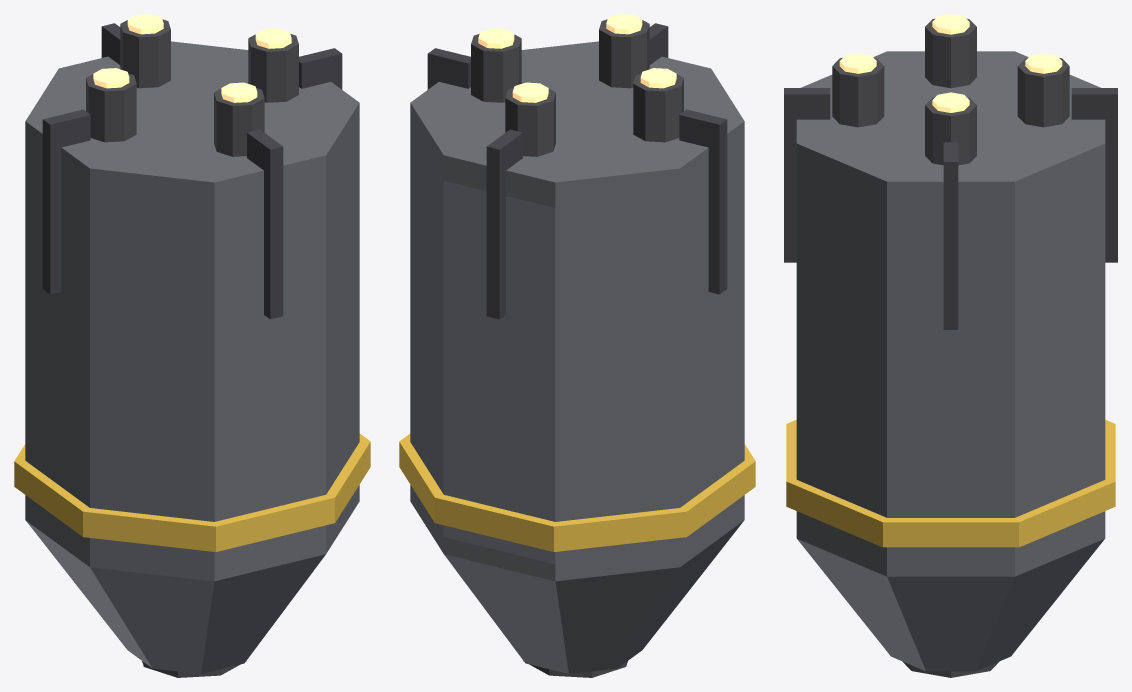
Rendered from ship_XS_DROPPOD.glb.
The picture shows the model from 3 angles, left to right: view 1: azimuth 30°, elevation 25°; view 2: azimuth 150°, elevation 25°; view 3: azimuth 270°, elevation 25°; orthographic projection.
Parts seen in each view (by area): view 1: XS_DROPPOD_Hull-col, XS_DROPPOD_Armor, XS_DROPPOD_Hazard, XS_DROPPOD_Engines, XS_DROPPOD_Trim, XS_DROPPOD_EngineGlow; view 2: XS_DROPPOD_Hull-col, XS_DROPPOD_Door-col, XS_DROPPOD_Armor, XS_DROPPOD_Hazard, XS_DROPPOD_Engines, XS_DROPPOD_Trim, XS_DROPPOD_EngineGlow; view 3: XS_DROPPOD_Hull-col, XS_DROPPOD_Armor, XS_DROPPOD_Engines, XS_DROPPOD_Hazard, XS_DROPPOD_Trim, XS_DROPPOD_EngineGlow.
Part boxes in pixels (<box>): XS_DROPPOD_Hull-col: <box>25,41,359,581</box>; XS_DROPPOD_Armor: <box>26,521,325,673</box>; XS_DROPPOD_Hazard: <box>14,433,370,551</box>; XS_DROPPOD_Engines: <box>86,19,298,677</box>; XS_DROPPOD_Trim: <box>42,23,342,319</box>; XS_DROPPOD_EngineGlow: <box>93,14,291,102</box>; XS_DROPPOD_Hull-col: <box>410,41,744,581</box>; XS_DROPPOD_Door-col: <box>443,181,555,564</box>; XS_DROPPOD_Armor: <box>444,521,743,673</box>; XS_DROPPOD_Hazard: <box>399,433,755,551</box>; XS_DROPPOD_Engines: <box>471,19,683,677</box>; XS_DROPPOD_Trim: <box>427,23,727,319</box>; XS_DROPPOD_EngineGlow: <box>478,14,676,102</box>; XS_DROPPOD_Hull-col: <box>796,51,1105,576</box>; XS_DROPPOD_Armor: <box>797,539,1104,671</box>; XS_DROPPOD_Engines: <box>832,18,1069,677</box>; XS_DROPPOD_Hazard: <box>786,420,1115,547</box>; XS_DROPPOD_Trim: <box>784,88,1117,329</box>; XS_DROPPOD_EngineGlow: <box>839,14,1062,112</box>.
Size of the model in its own units: 1.8 by 3.53 by 1.8.
